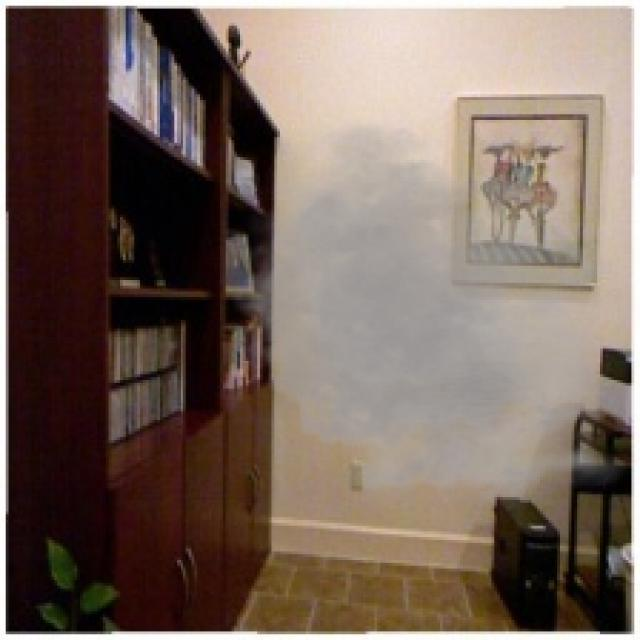Smoke: (220, 108, 637, 523)
